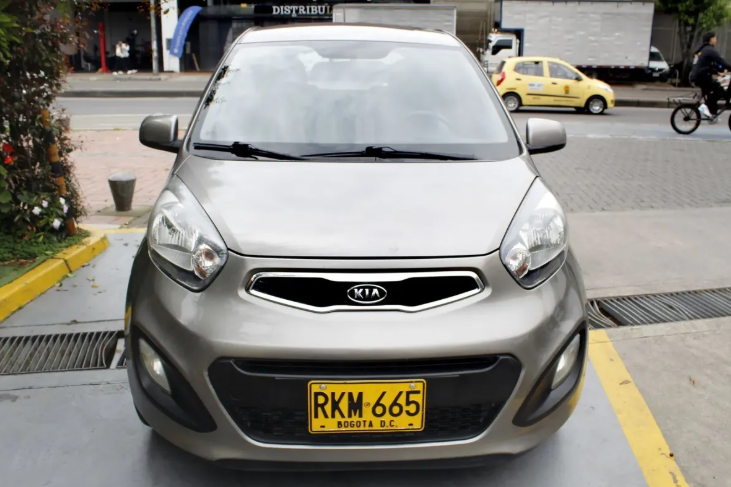placa: (306, 383, 427, 431)
